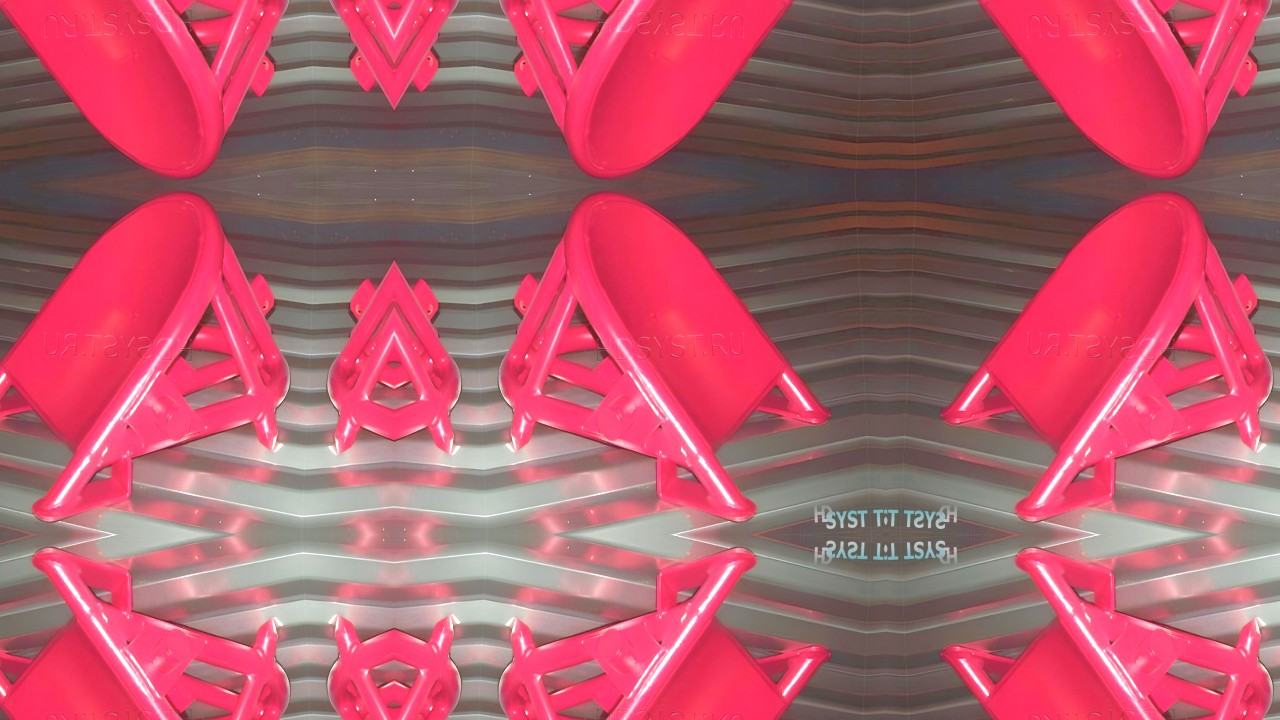chock: (478, 185, 839, 535), (933, 185, 1280, 535), (0, 185, 310, 535), (478, 0, 839, 185), (478, 535, 839, 720), (933, 0, 1280, 185), (933, 535, 1280, 720), (0, 0, 310, 185), (0, 535, 310, 720)
